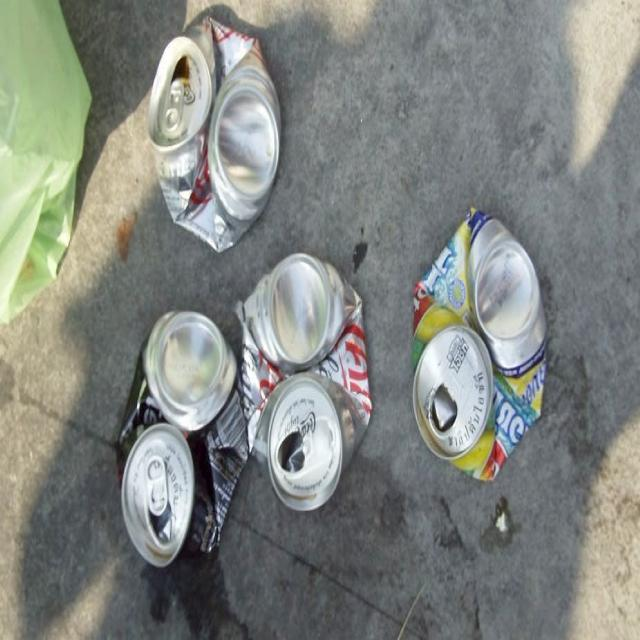can: (416, 203, 544, 474), (118, 308, 246, 578), (149, 18, 286, 254), (241, 256, 368, 507)
